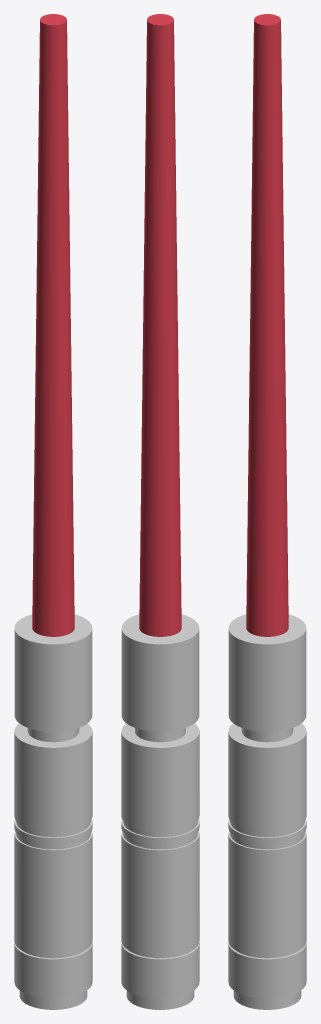
Rendered from lightsaber.fbx.
The picture shows the model from 3 angles, left to right: view 1: azimuth 90°, elevation 25°; view 2: azimuth 150°, elevation 25°; view 3: azimuth 270°, elevation 25°; orthographic projection.
Visible parts, largest first — view 1: Cylinder; view 2: Cylinder; view 3: Cylinder.
Boxes of the visible parts, left/top/right/bottom form: Cylinder: left=14, top=14, right=92, bottom=1009; Cylinder: left=121, top=14, right=199, bottom=1009; Cylinder: left=228, top=14, right=306, bottom=1009.
Size of the model in its own units: 49.41 by 679 by 49.41.
